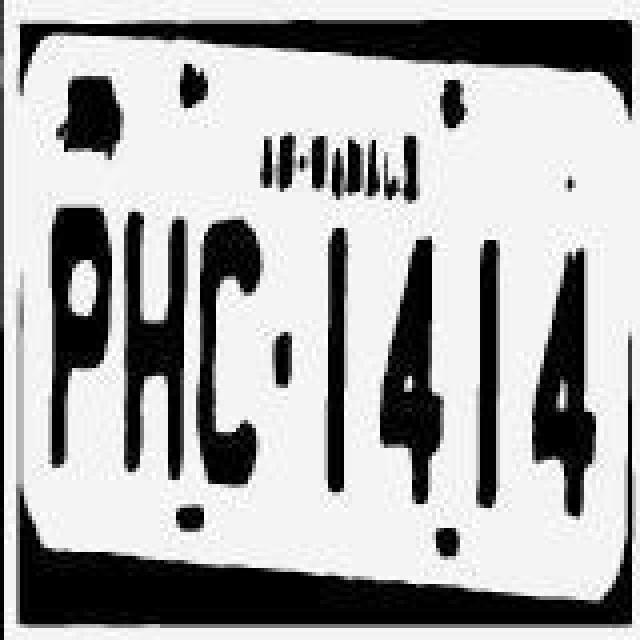1: (476, 218, 524, 510), (322, 222, 366, 498)
4: (530, 212, 614, 508), (378, 228, 454, 508)
C: (196, 210, 276, 494)
H: (116, 210, 196, 486)
P: (40, 198, 120, 474)
